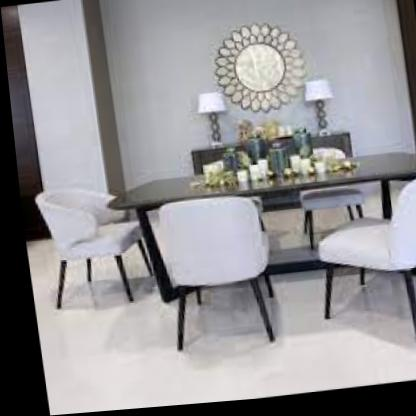Dining Table: (25, 124, 416, 397)
